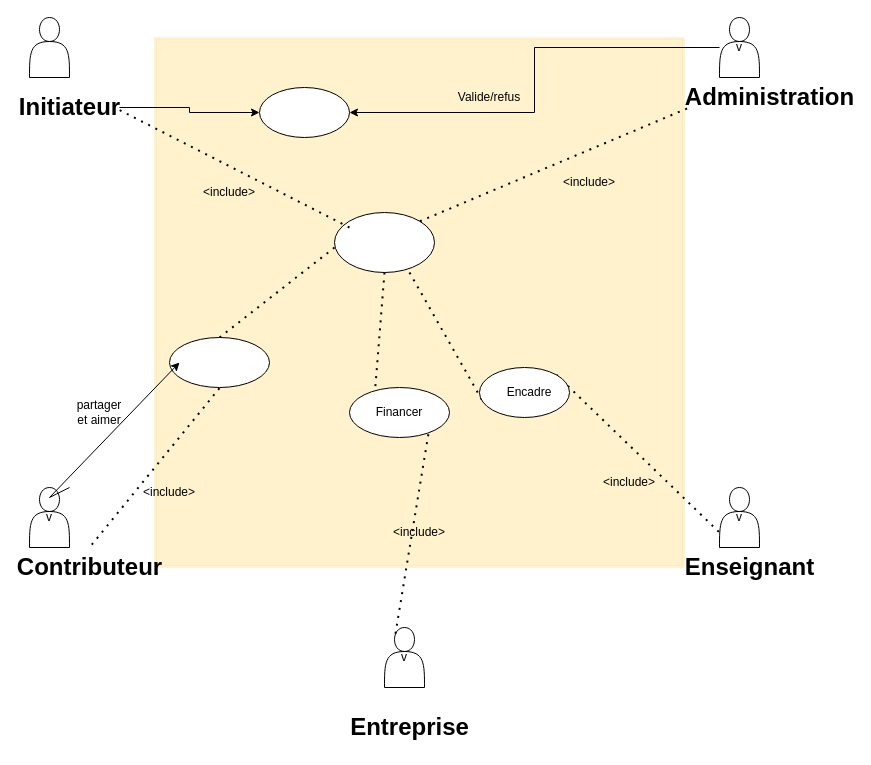
This 871x765 diagram has some shape labels left out. Each missing label, with the centre of its shape:
contribue: (219,362)
S'identifier: (384,242)
Soumet projet: (304,112)
